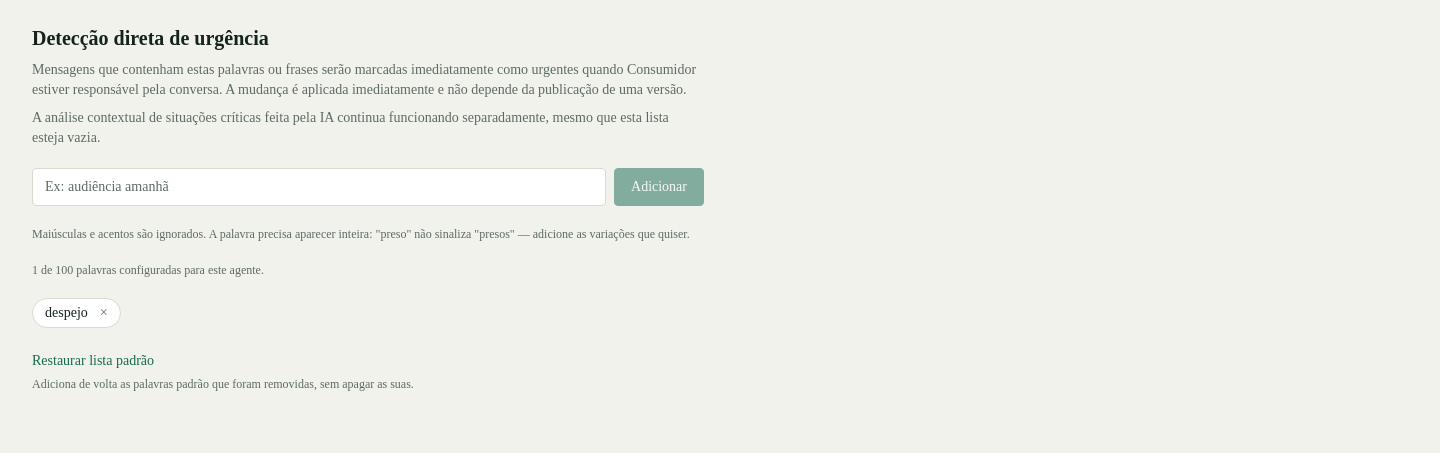
Test: UrgencyKeywordsPanel › mostra o erro do servidor ao adicionar duplicada
Expected: the list item "despejo" is shown, [45,305,88,320]
Type "Despejo" into the field with placeholder "Ex: audiência amanhã" at (319, 187), box [32,168,606,206]
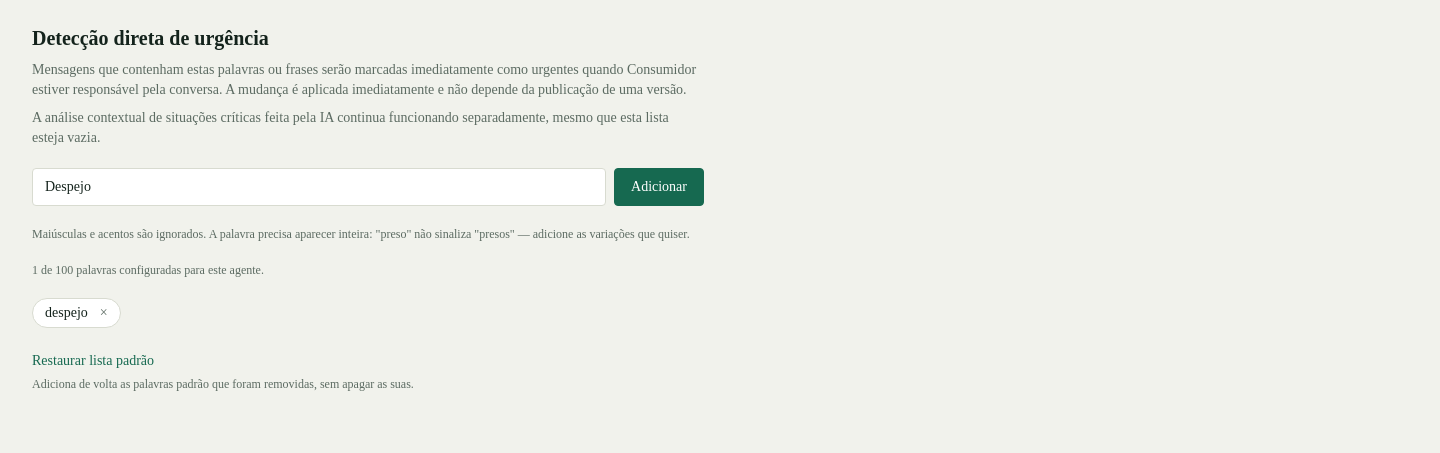
Click the button "Adicionar" at (659, 187), box [614,168,704,206]
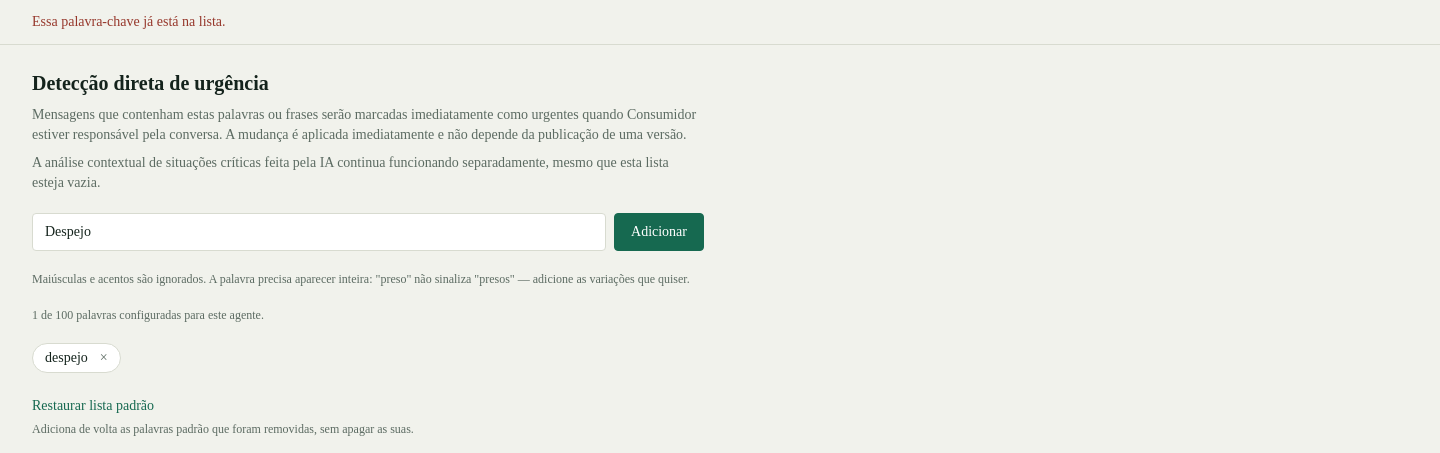
Expected: the message reads "Essa palavra-chave já está na lista.", [32,14,226,29]
